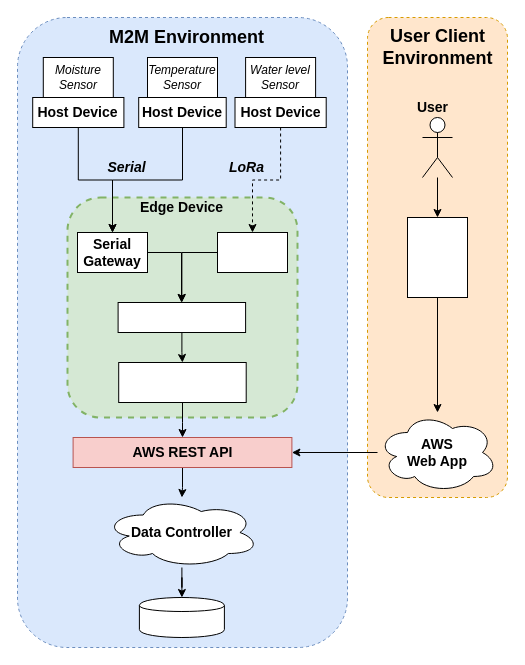
Some shapes in this 525 by 665 pixel diagram are drawn without their labels. The shapes that lost their labels are listed below. From the top down, each one's centre as x and y in pixels, then its label:
At point 252,252: "LoRa Gateway".
At point 437,257: "Client Device".
At point 181,317: "MQTT Broker".
At point 182,382: "MQTT-REST Adapter".
At point 181,617: "Database".
